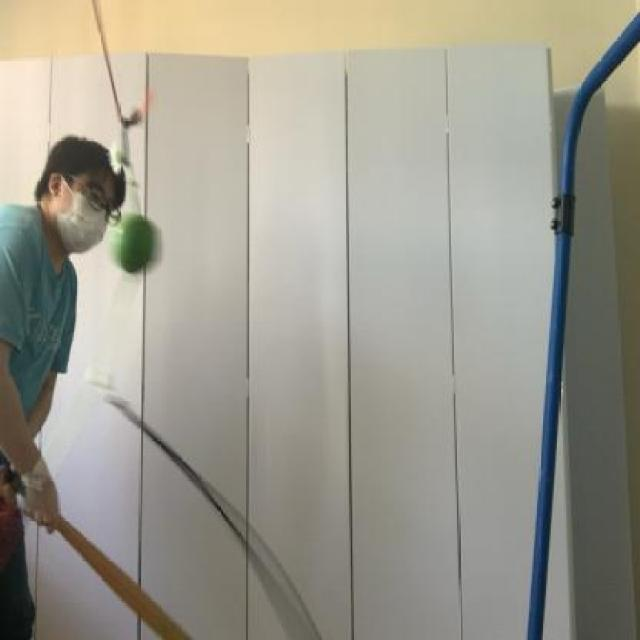baseball: (109, 212, 160, 283)
